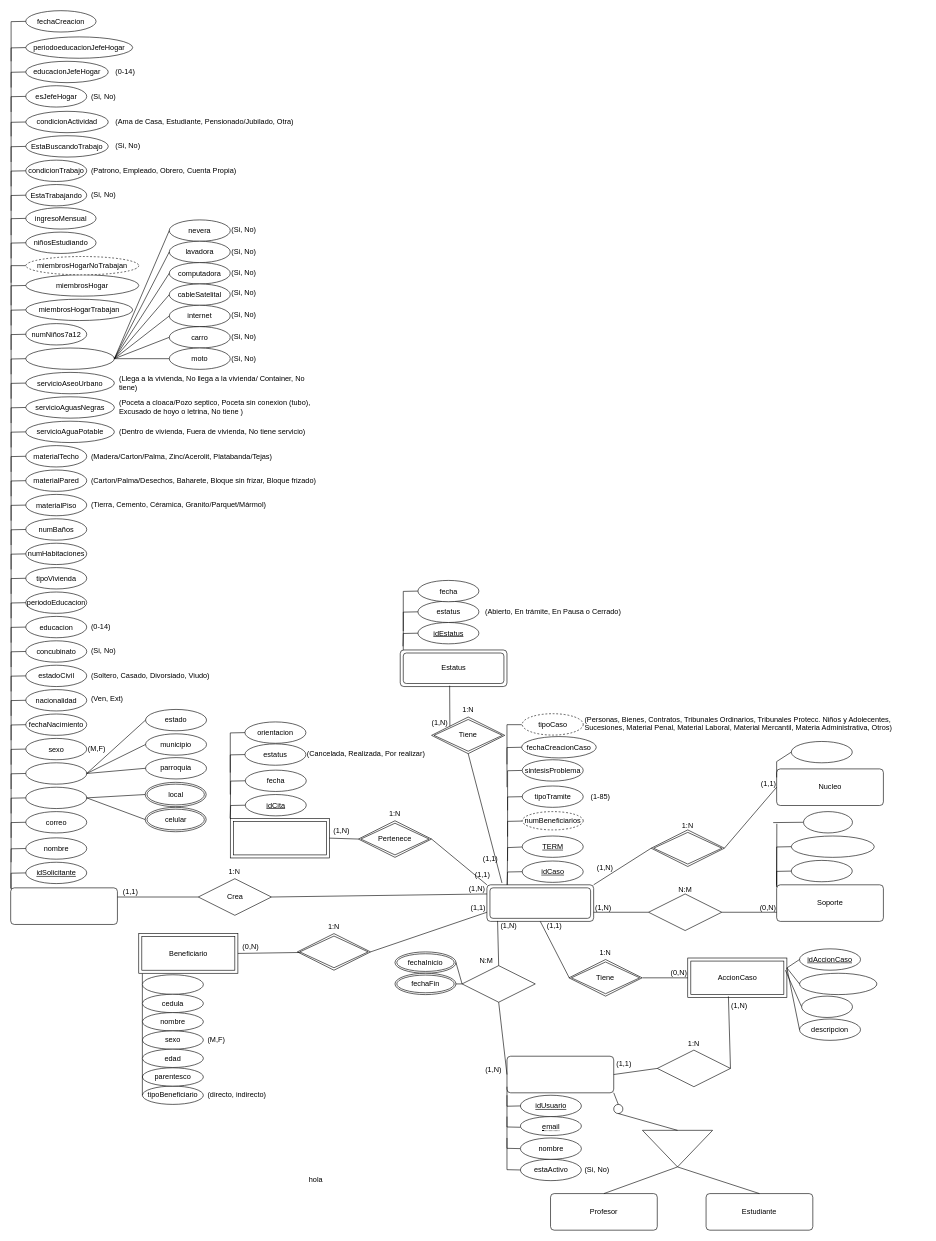
The diagram is 936 pixels wide and 1241 high, and some of its shapes have lost their labels. The shapes that lost their labels are listed below. From the top down, each one's centre as x and y in pixels, then its label:
the point at 69,358: artefactosDomesticos
the point at 821,752: idNucleo
the point at 56,773: residencia
the point at 56,798: telefonos
the point at 279,838: Cita
the point at 827,822: Archivo
the point at 687,848: Se solicita en
the point at 832,846: fechaConsignacion
the point at 821,871: idSoporte
the point at 63,905: Solicitante
the point at 540,902: Caso
the point at 685,912: Pertence
the point at 334,951: Asocia
the point at 172,984: idBeneficiario
the point at 498,983: Interviene
the point at 838,984: fechaRegistroAccion
the point at 826,1006: fechaAccion
the point at 560,1074: Usuario
the point at 693,1068: Registra
the point at 677,1148: Puede ser
